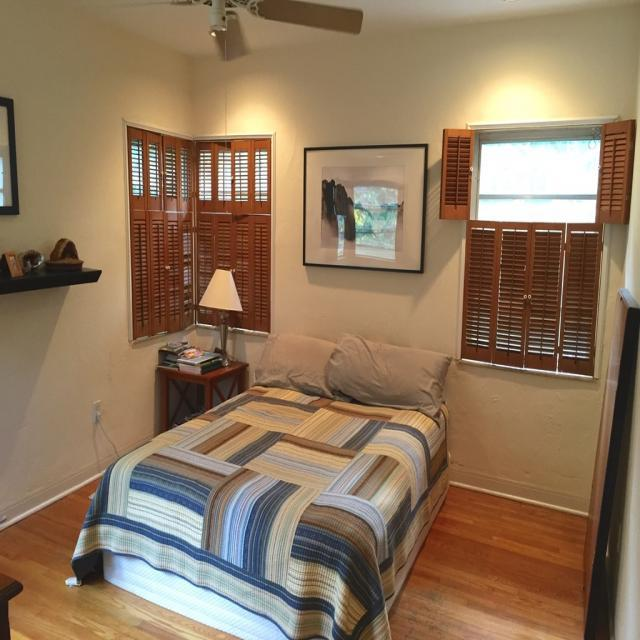fan_off: (117, 0, 371, 58)
